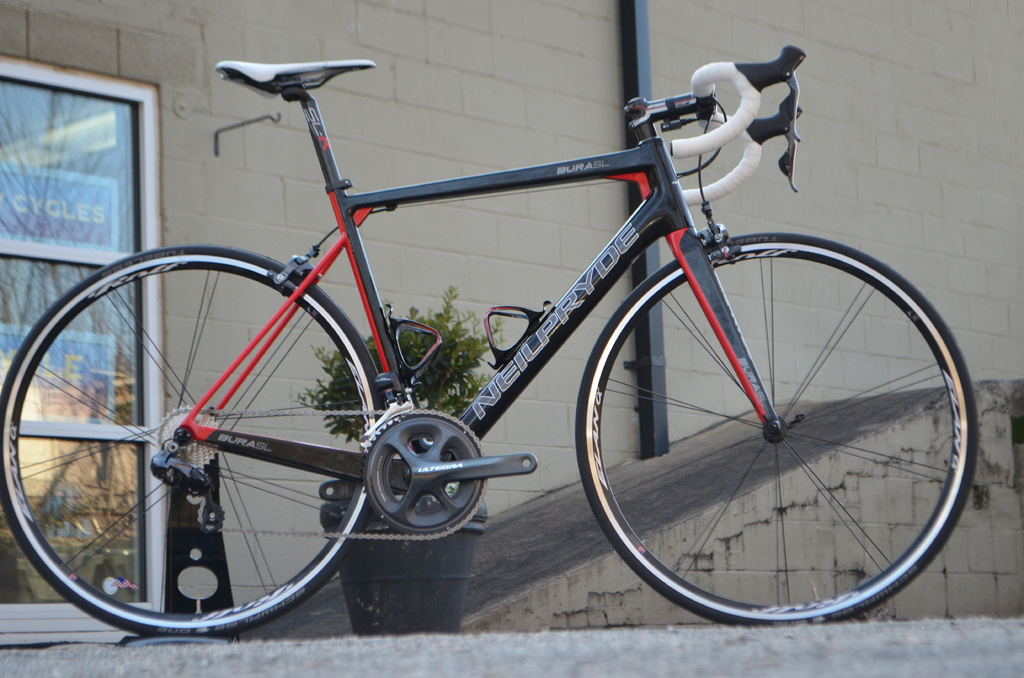Bike_toward: (73, 47, 907, 635)
